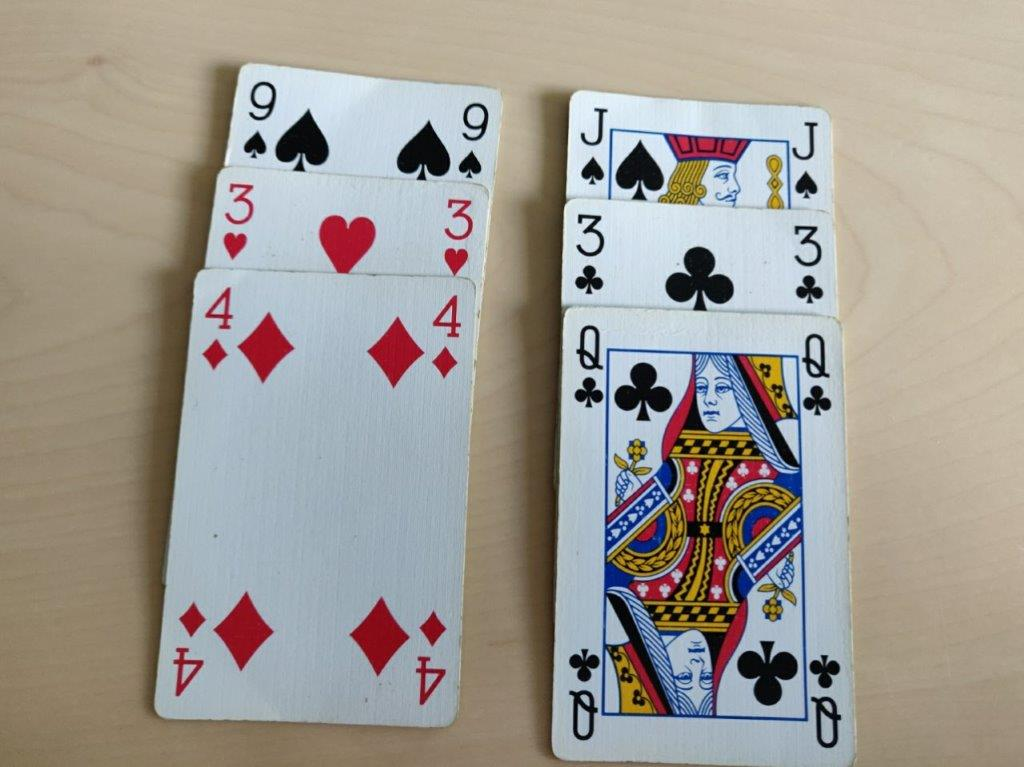3C: (568, 206, 608, 298), (787, 216, 827, 308)
3H: (216, 175, 258, 259), (438, 193, 480, 277)
4D: (199, 284, 238, 376), (428, 289, 464, 379)
9S: (242, 79, 278, 159), (456, 100, 492, 180)
JS: (572, 102, 611, 186), (784, 116, 823, 200)
QC: (799, 327, 834, 418), (574, 321, 607, 413)
